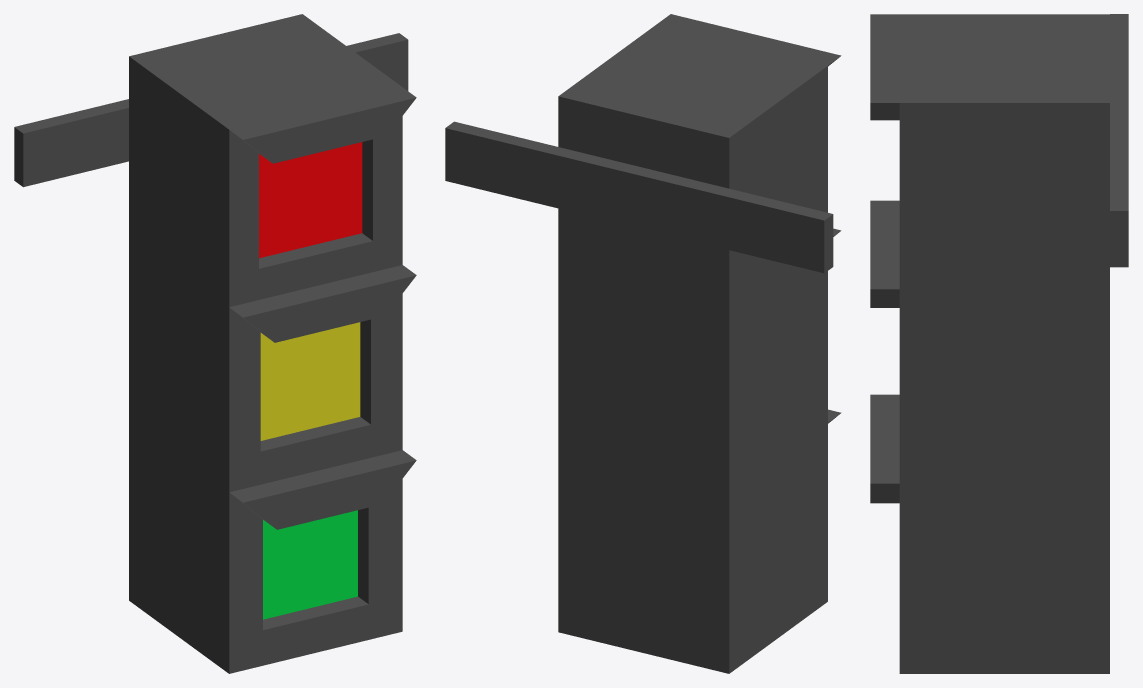
Rendered from traffic_lights.fbx.
3 renders of one model, left to right at view 1: azimuth 30°, elevation 25°; view 2: azimuth 150°, elevation 25°; view 3: azimuth 270°, elevation 25°, orthographic. The views are drawn at different scales.
Parts seen in each view (by area): view 1: Traffic_Lights; view 2: Traffic_Lights; view 3: Traffic_Lights.
Part boxes in pixels (x1,y1,x2,y2): Traffic_Lights: (14, 14, 416, 673); Traffic_Lights: (445, 14, 841, 673); Traffic_Lights: (870, 14, 1128, 673).
Bounding box in the file's own units: 444 × 600 × 246.
